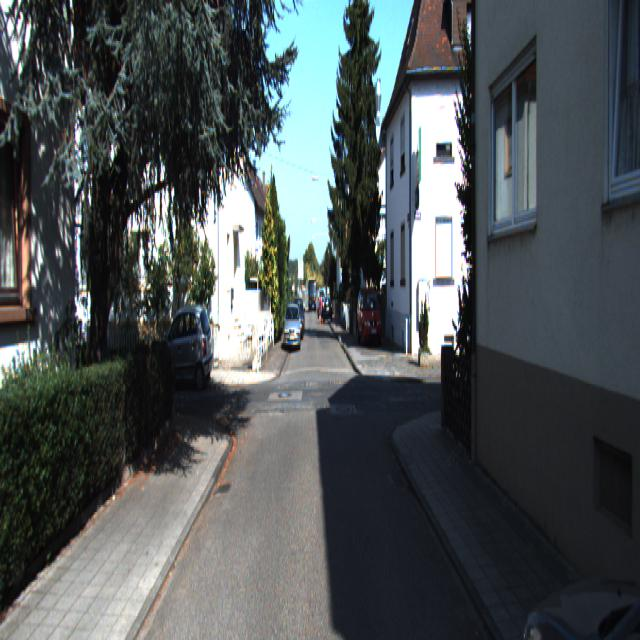Car: (151, 301, 212, 388), (356, 287, 383, 350), (285, 305, 300, 354)
